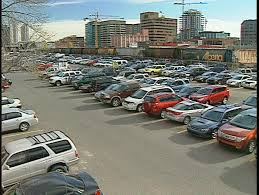car: (1, 124, 82, 178), (187, 106, 259, 139), (216, 106, 259, 153), (121, 85, 177, 111), (101, 83, 153, 106), (142, 93, 192, 115), (164, 100, 215, 120), (190, 84, 234, 106), (49, 70, 85, 86), (226, 74, 252, 89), (206, 73, 232, 85)
